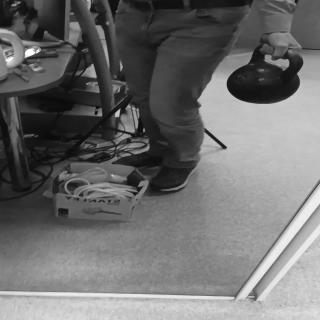girya: (228, 45, 304, 106)
